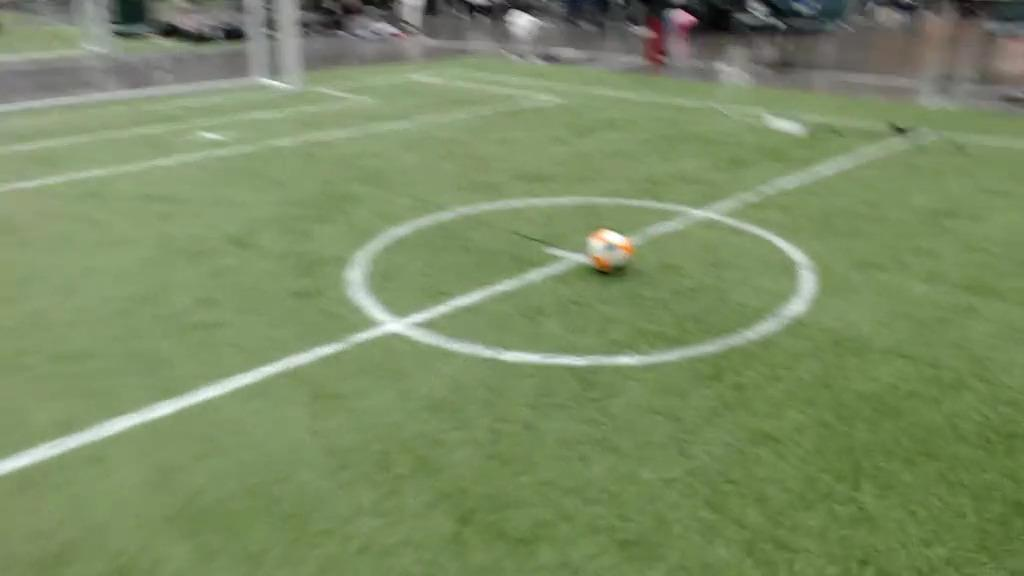ball: (589, 227, 632, 273)
